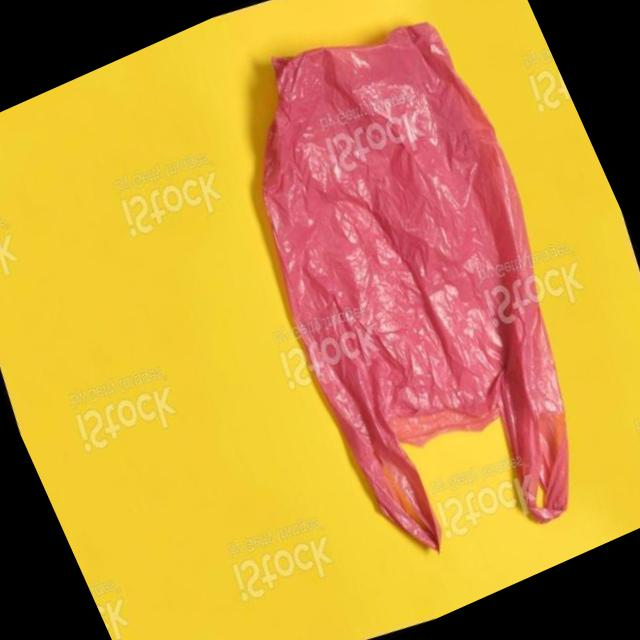KantongPlastik: (185, 0, 640, 588)
